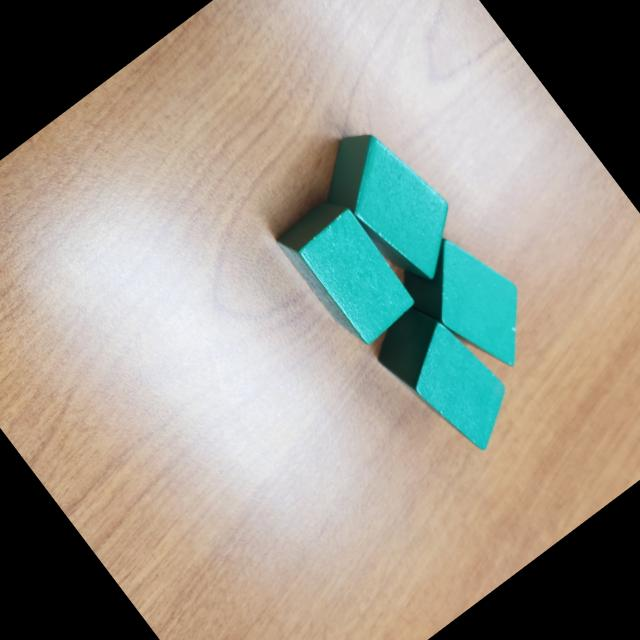green: (301, 108, 483, 304), (364, 291, 528, 468), (390, 218, 554, 394), (273, 188, 424, 353)
